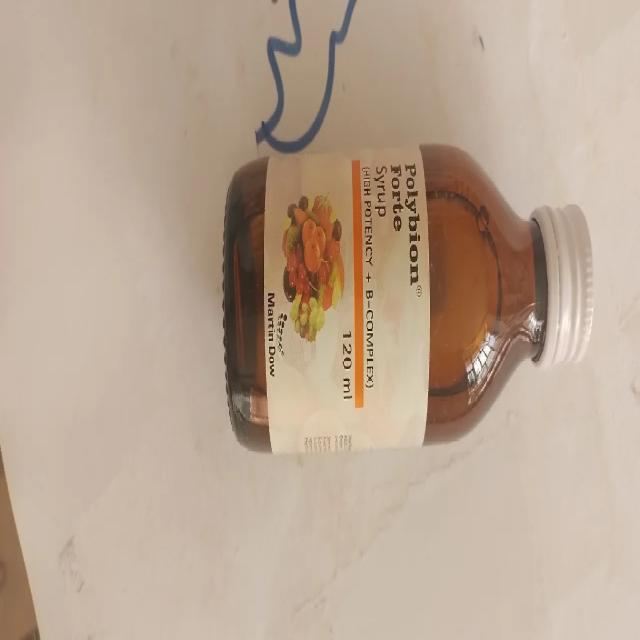drug-name: (402, 156, 426, 298)
